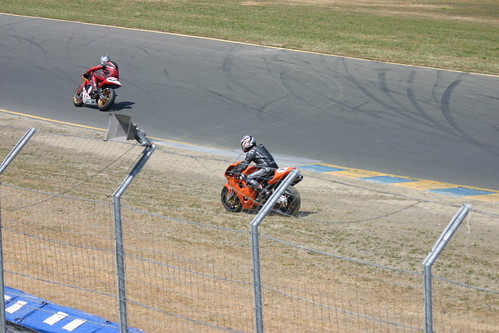helmet: (236, 130, 254, 150), (96, 53, 110, 62)
